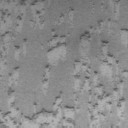oxide scale of temperature system: (72, 18, 128, 128), (0, 66, 62, 128), (0, 0, 46, 59), (42, 28, 67, 94), (58, 5, 75, 24), (14, 38, 28, 60), (120, 28, 128, 43)
